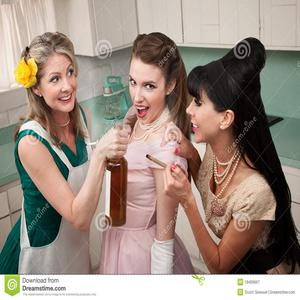cigarette: (146, 153, 173, 170)
